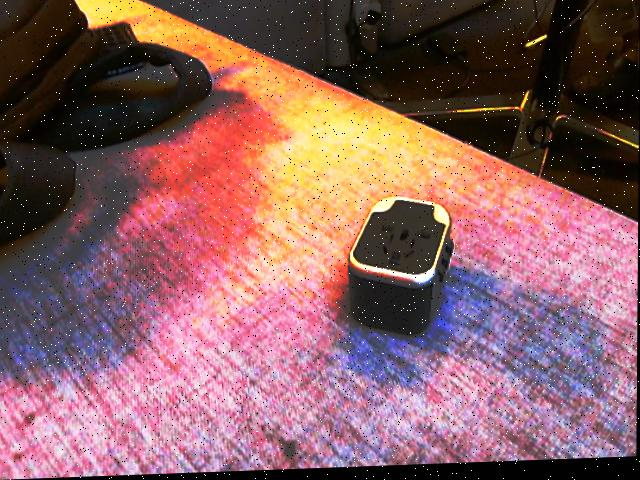adapter: (345, 196, 454, 340)
